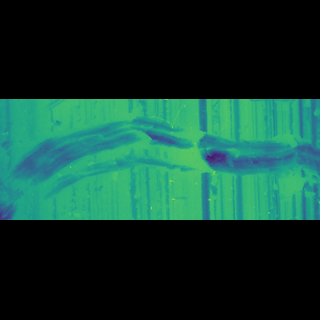Loch: (3, 141, 320, 178), (0, 172, 29, 183), (42, 136, 70, 143)
